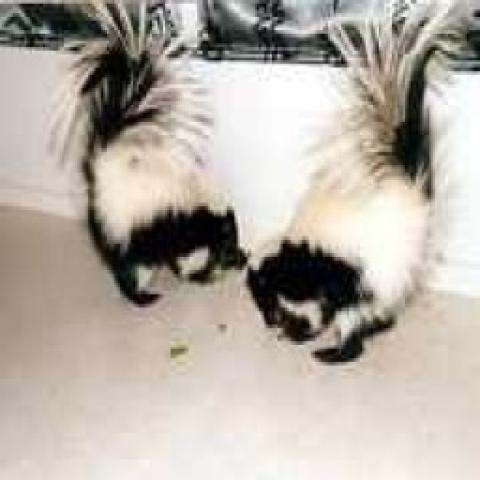small_animal: (247, 0, 480, 363), (62, 0, 248, 310)
